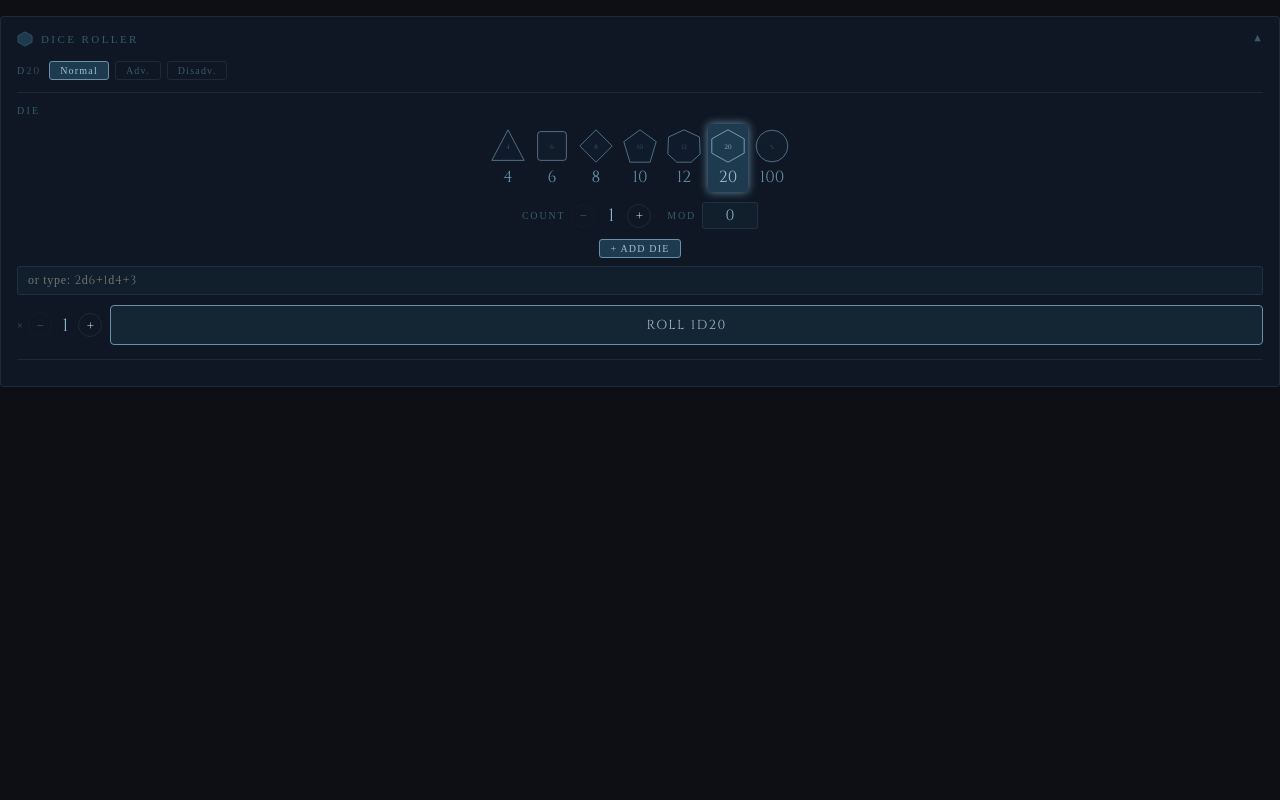
it: DmDiceRoller remote history › persists DM rolls into shared roll history with a DM identity
Click the button "Roll 1d20" at {"x": 687, "y": 325}, box [110, 305, 1263, 345]
Wait 650 ms
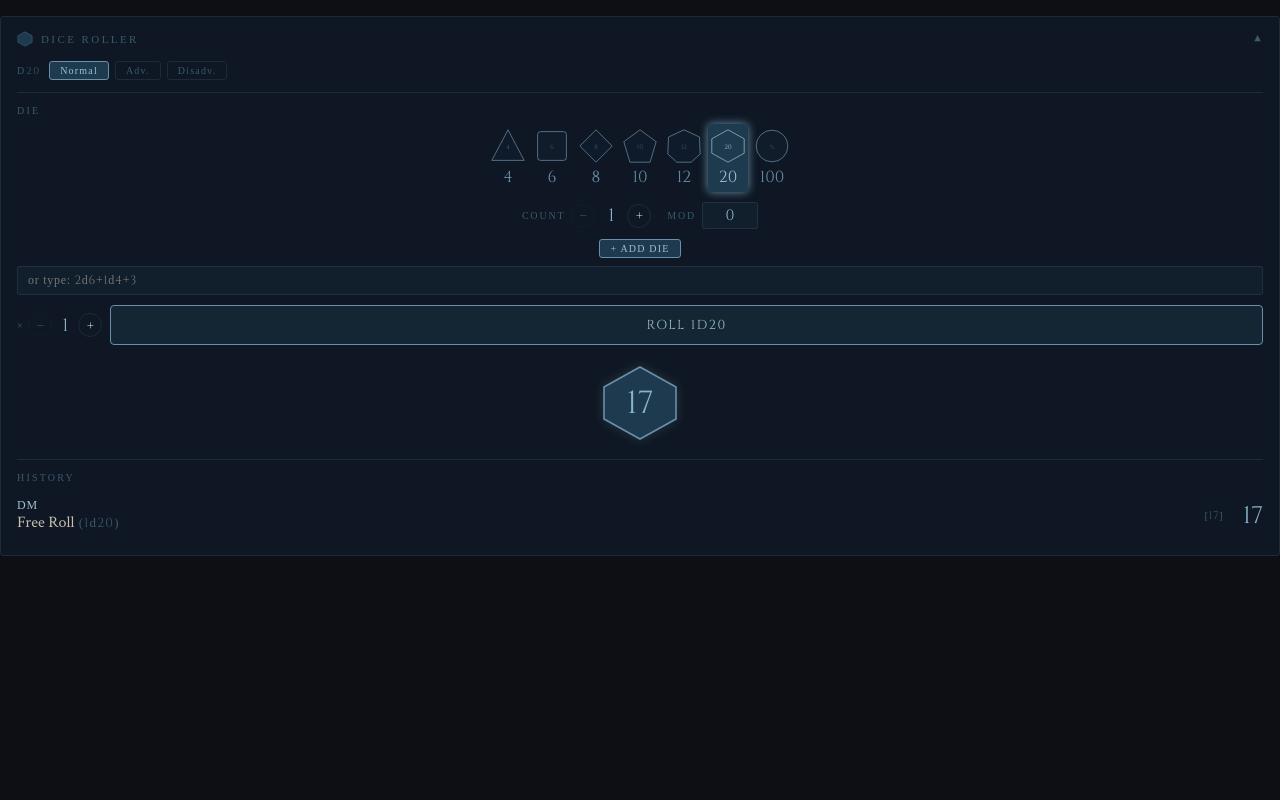
Check: the text "DM" is shown, box [17, 498, 38, 512]
